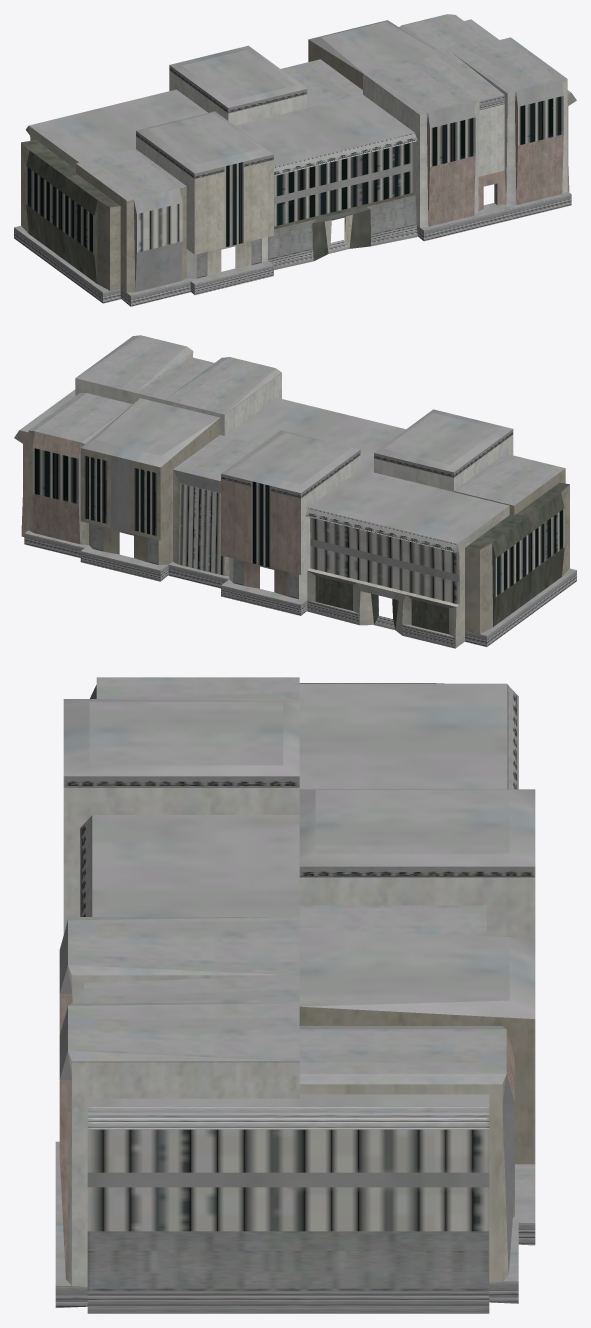
File: thm_corl_imprv_building_block_64x32_s01_r0_exterior_mesh_r0_l3.fbx
3 renders of one model, top to bottom at view 1: azimuth 30°, elevation 25°; view 2: azimuth 150°, elevation 25°; view 3: azimuth 270°, elevation 25°, orthographic. The views are drawn at different scales.
Parts seen in each view (by area): view 1: mesh_node; view 2: mesh_node; view 3: mesh_node.
Boxes of the visible parts, x1=… form: mesh_node: x1=14, y1=14, x2=576, y2=306; mesh_node: x1=14, y1=335, x2=576, y2=648; mesh_node: x1=55, y1=677, x2=535, y2=1313.
Bounding box in the file's own units: 66.11 × 17 × 29.5.
Materials: 1 (1 with a texture image).
